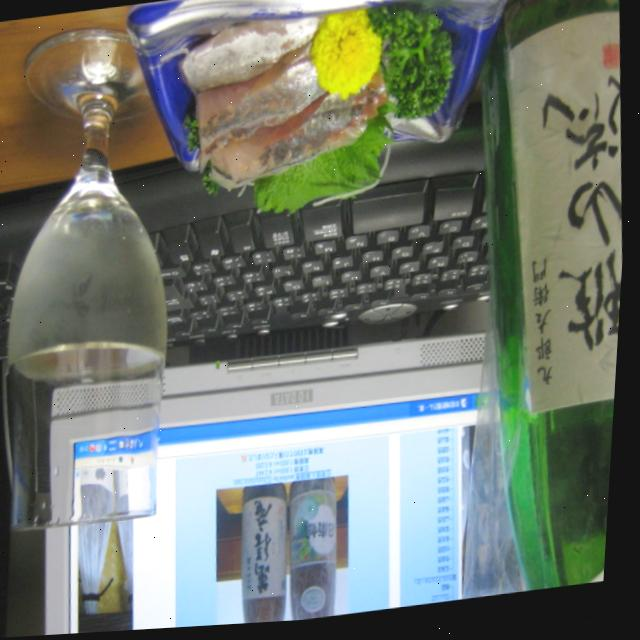刺身生食: (156, 0, 434, 228)
